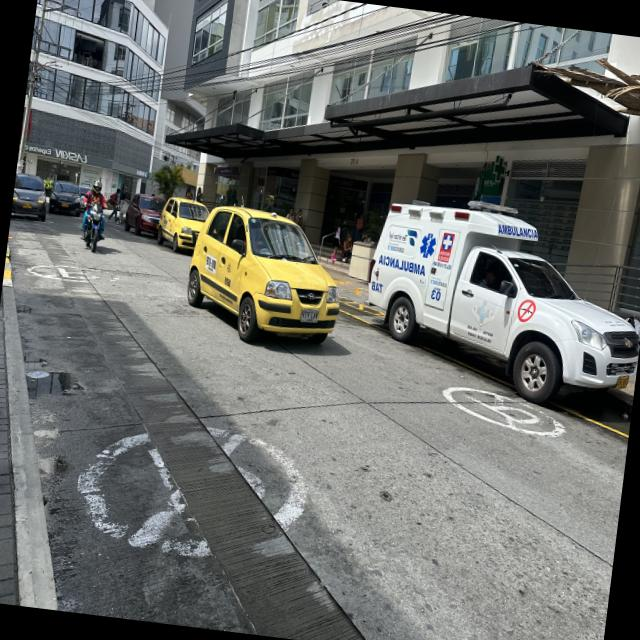number plate: (300, 308, 319, 322)
